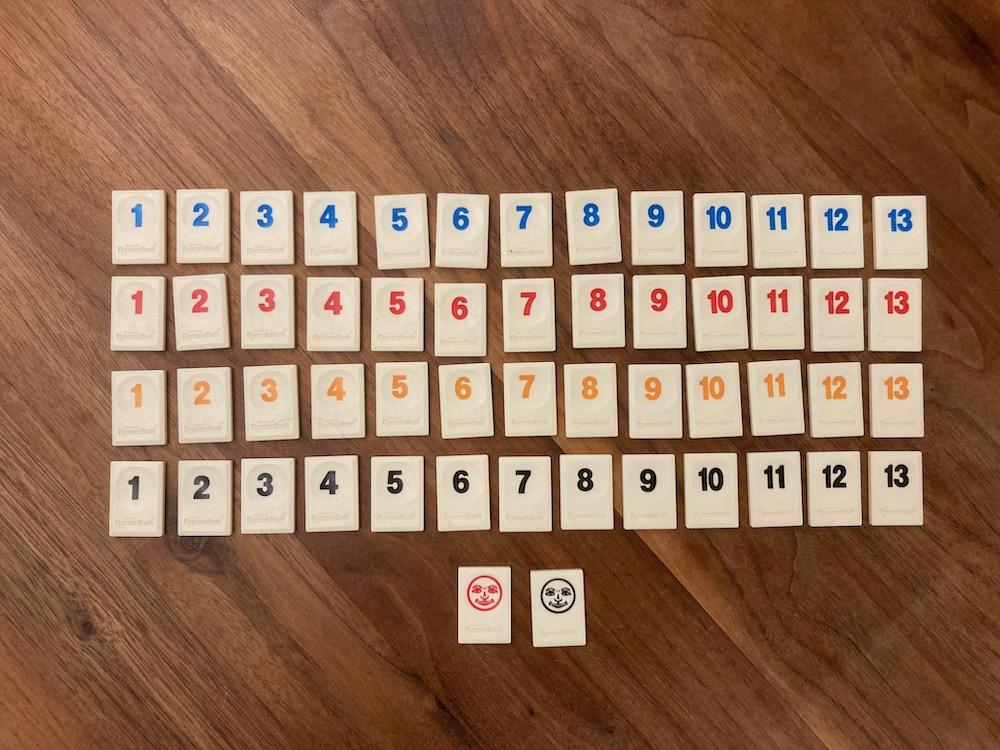blue_1: (111, 189, 166, 264), (109, 462, 164, 537)
blue_10: (685, 453, 737, 527), (695, 193, 746, 267)
blue_11: (752, 196, 807, 268), (747, 453, 802, 525)
blue_12: (809, 451, 860, 525), (811, 196, 862, 268)
blue_13: (869, 452, 922, 525), (874, 197, 927, 268)
blue_2: (178, 461, 232, 535), (176, 189, 229, 262)
blue_3: (240, 191, 294, 266), (240, 460, 295, 533)
blue_4: (303, 191, 355, 266), (305, 456, 357, 531)
blue_5: (376, 195, 430, 269), (371, 457, 424, 531)
blue_6: (436, 194, 488, 268), (437, 456, 489, 530)
blue_7: (501, 193, 552, 267), (500, 457, 551, 531)
blue_8: (567, 190, 620, 265), (561, 455, 612, 529)
blue_9: (623, 455, 675, 529), (633, 191, 684, 265)
joker: (532, 568, 585, 646), (457, 567, 510, 643)
orange_1: (111, 371, 166, 445)
orange_10: (687, 364, 741, 439)
orange_11: (749, 359, 805, 435)
orange_12: (808, 361, 862, 436)
orange_13: (871, 363, 922, 438)
orange_2: (178, 368, 231, 441)
orange_3: (245, 366, 298, 440)
orange_4: (312, 365, 364, 438)
orange_5: (377, 363, 428, 436)
orange_6: (440, 364, 493, 439)
orange_7: (505, 363, 556, 436)
orange_8: (565, 364, 619, 438)
orange_9: (629, 365, 682, 439)
red_1: (111, 277, 166, 352)
red_10: (692, 276, 748, 350)
red_11: (751, 277, 803, 350)
red_12: (811, 277, 863, 352)
red_13: (869, 279, 922, 352)
red_2: (172, 273, 230, 352)
red_3: (242, 275, 294, 348)
red_4: (307, 277, 359, 352)
red_5: (371, 277, 424, 352)
red_6: (436, 284, 486, 357)
red_7: (504, 279, 555, 352)
red_8: (572, 275, 623, 348)
red_9: (633, 275, 686, 350)
